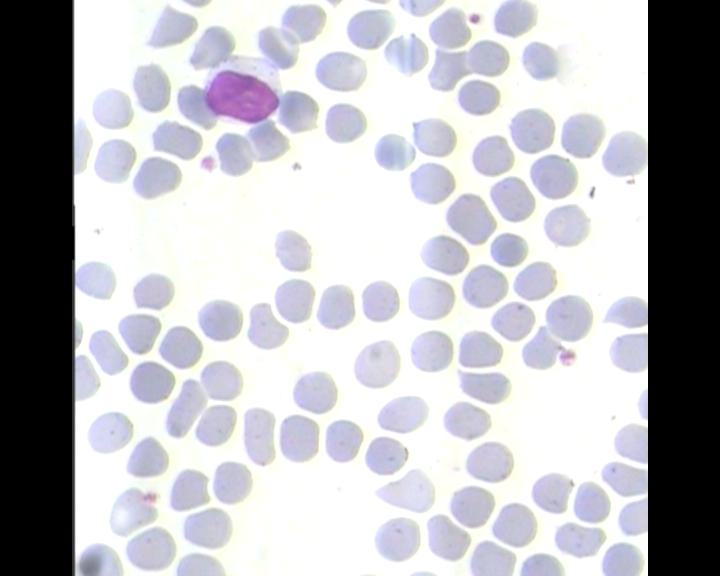lymp: (202, 53, 285, 127)
